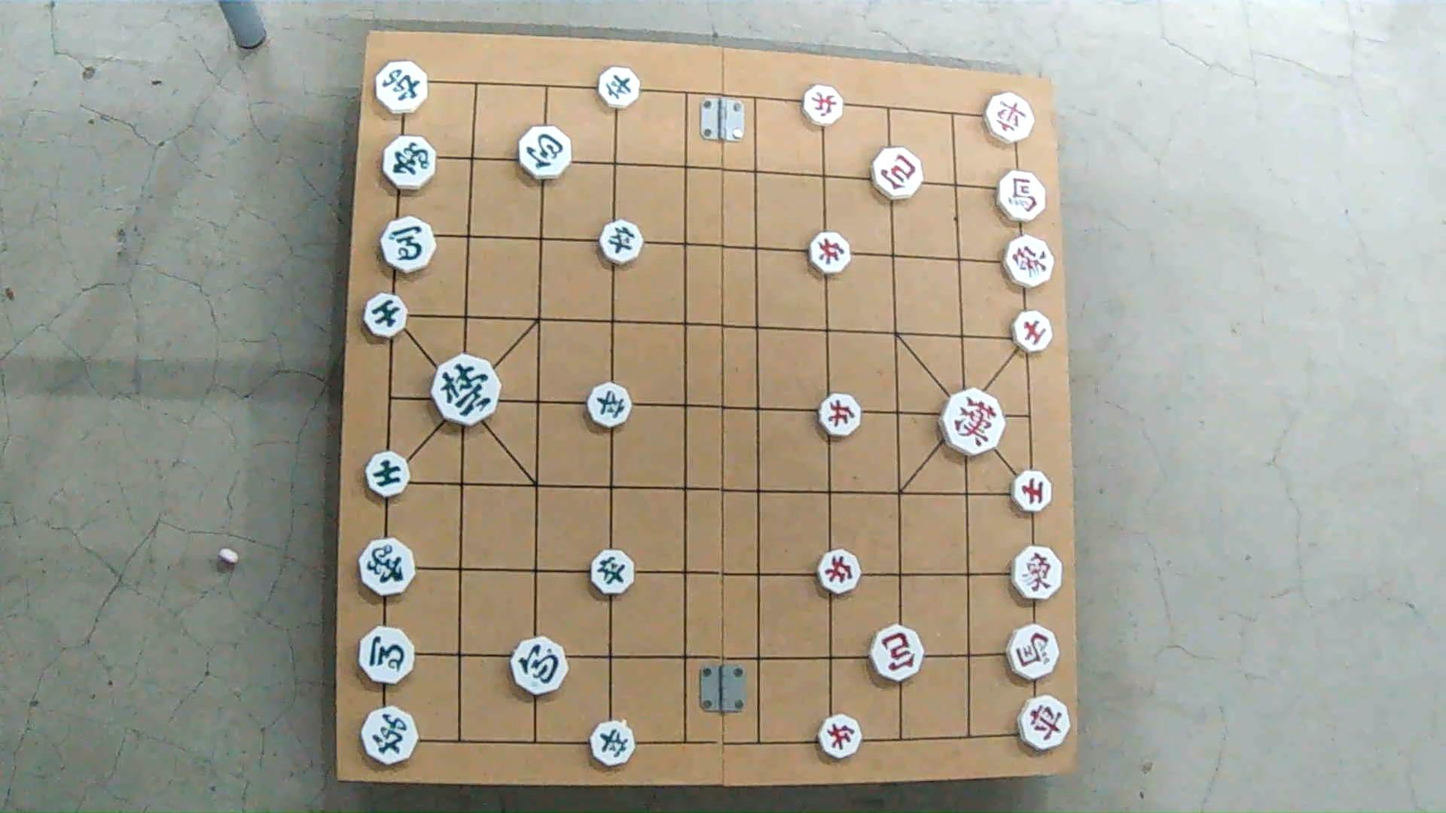cha_green: (362, 704, 418, 766), (373, 59, 430, 116)
cha_red: (1017, 698, 1071, 750), (985, 89, 1035, 141)
jol_green: (592, 553, 637, 596), (589, 385, 634, 428), (602, 222, 647, 263), (592, 724, 637, 765), (596, 69, 642, 109)
jol_red: (816, 394, 863, 435), (816, 553, 862, 594), (816, 716, 861, 757), (801, 84, 845, 124), (806, 233, 849, 273)
ma_green: (359, 626, 417, 685), (380, 218, 435, 270)
ma_red: (1007, 624, 1060, 681), (996, 168, 1048, 218)
po_green: (510, 635, 567, 695), (520, 126, 575, 178)
po_red: (868, 629, 923, 682), (871, 148, 923, 198)
sa_green: (365, 452, 409, 495), (366, 295, 411, 336)
sa_red: (1014, 309, 1052, 352), (1013, 470, 1051, 513)
sang_green: (360, 537, 416, 597), (380, 136, 436, 187)
sang_red: (1011, 549, 1065, 601), (1001, 238, 1054, 285)
wang_green: (432, 358, 502, 425)
wang_red: (939, 392, 1006, 453)
